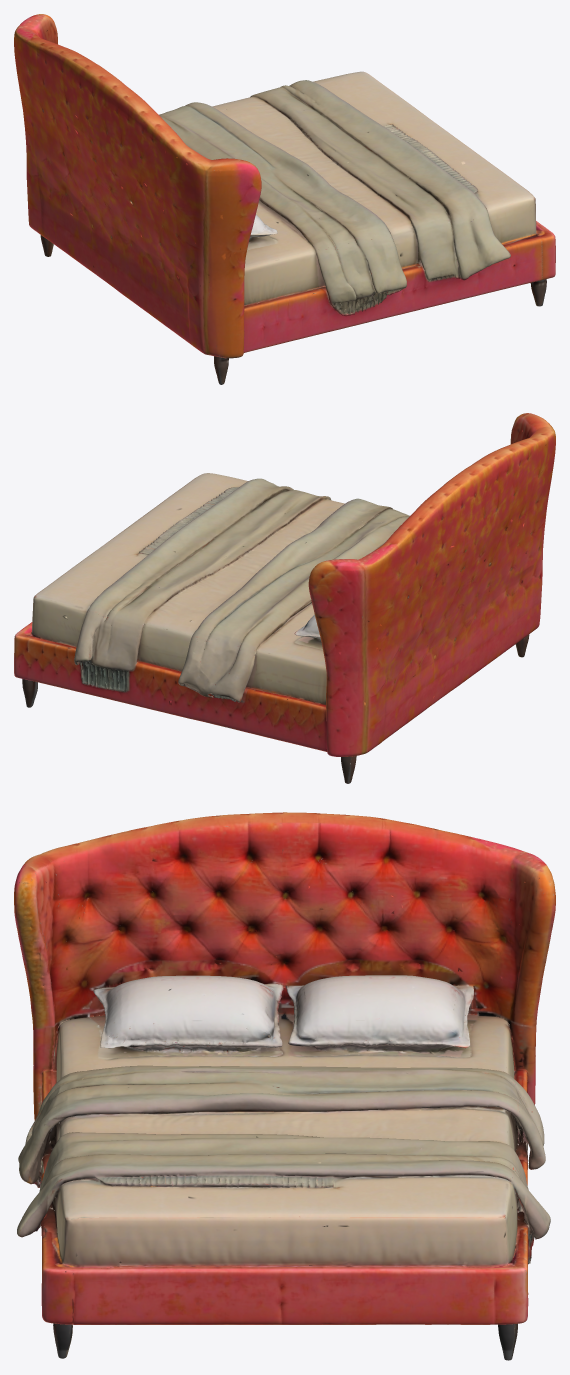
The model's file is bed_dreamburst.glb.
The picture shows the model from 3 angles, top to bottom: view 1: azimuth 30°, elevation 25°; view 2: azimuth 150°, elevation 25°; view 3: azimuth 270°, elevation 25°; orthographic projection. The views are drawn at different scales.
Parts seen in each view (by area): view 1: Object_4, Object_5, Object_6, Object_7; view 2: Object_4, Object_5, Object_6, Object_7; view 3: Object_4, Object_5, Object_6, Object_7.
Part boxes in pixels (x1,y1,x2,y2): Object_4: (29,22,510,357); Object_5: (14,14,555,384); Object_6: (14,17,555,377); Object_7: (15,15,555,377); Object_4: (88,418,555,756); Object_5: (14,413,554,783); Object_6: (15,413,555,783); Object_7: (14,416,552,781); Object_4: (14,822,555,1237); Object_5: (17,812,554,1353); Object_6: (14,813,555,1360); Object_7: (16,815,554,1353).
Size of the model in its own units: 1.99 by 1.3 by 1.96.
Materials: 1 (1 with a texture image).
